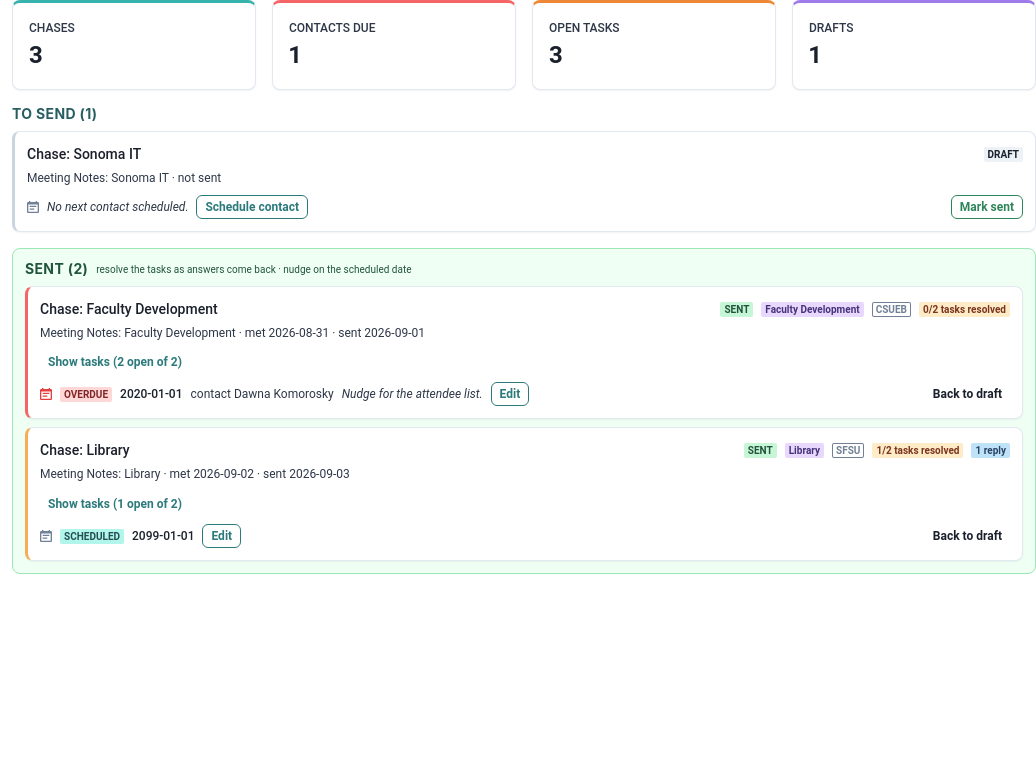
Test: FollowUpsBoard › shows the tasks a chase carried, with type, status, and owner
What coordinates should you click on to do the following:
click the button "Show tasks (2 open of 2)"
I would click on:
 (115, 362)
Its box is 40,350 -> 190,374.
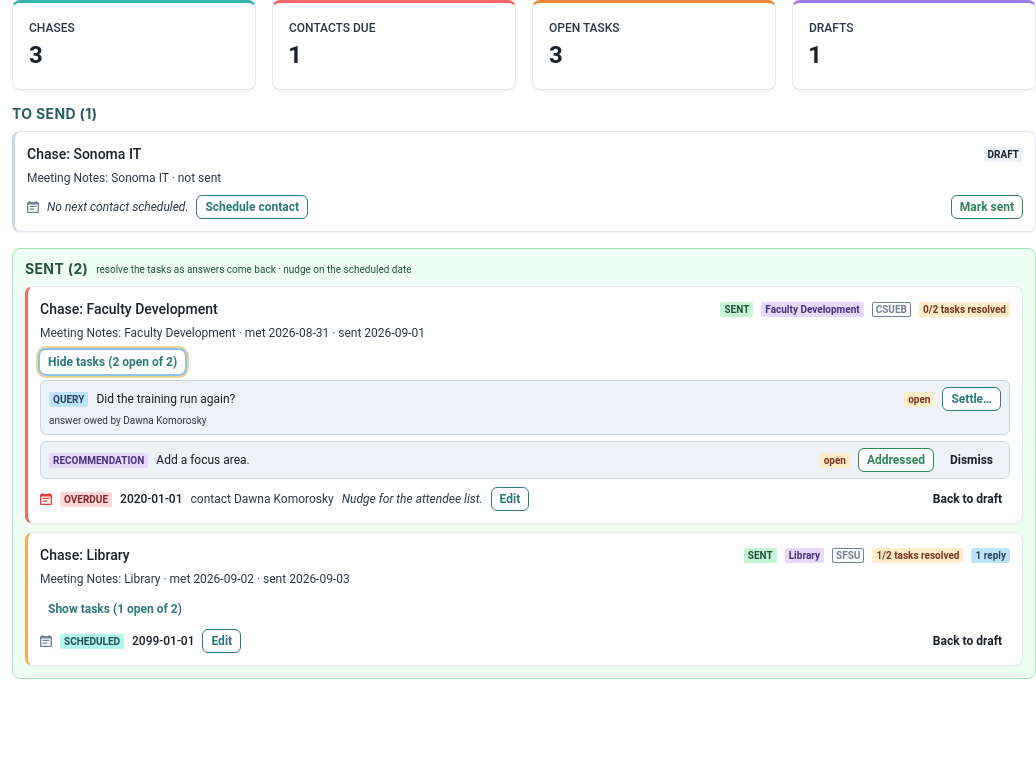
Now the text "Did the training run again?" is shown, box 96,392 -> 235,406
Now the text "Add a focus area." is shown, box 156,453 -> 250,467
Now the text "Query" is shown, box 49,392 -> 88,407
